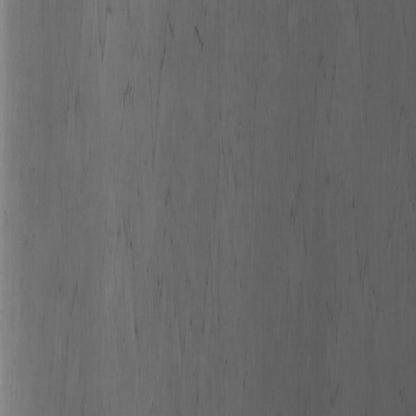silk_spot: (100, 10, 264, 294)
